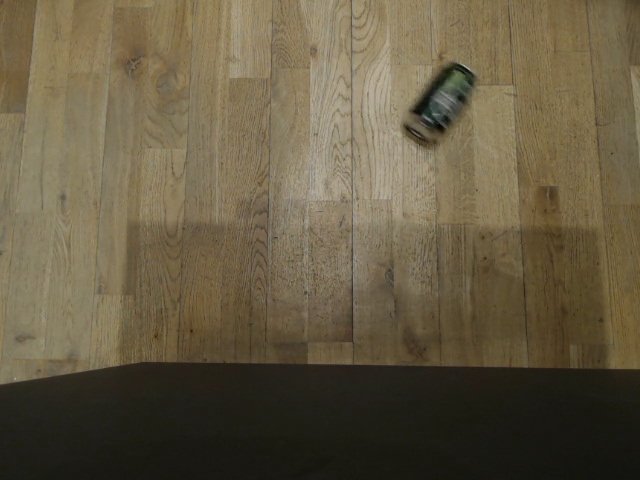beer: (399, 60, 479, 143)
